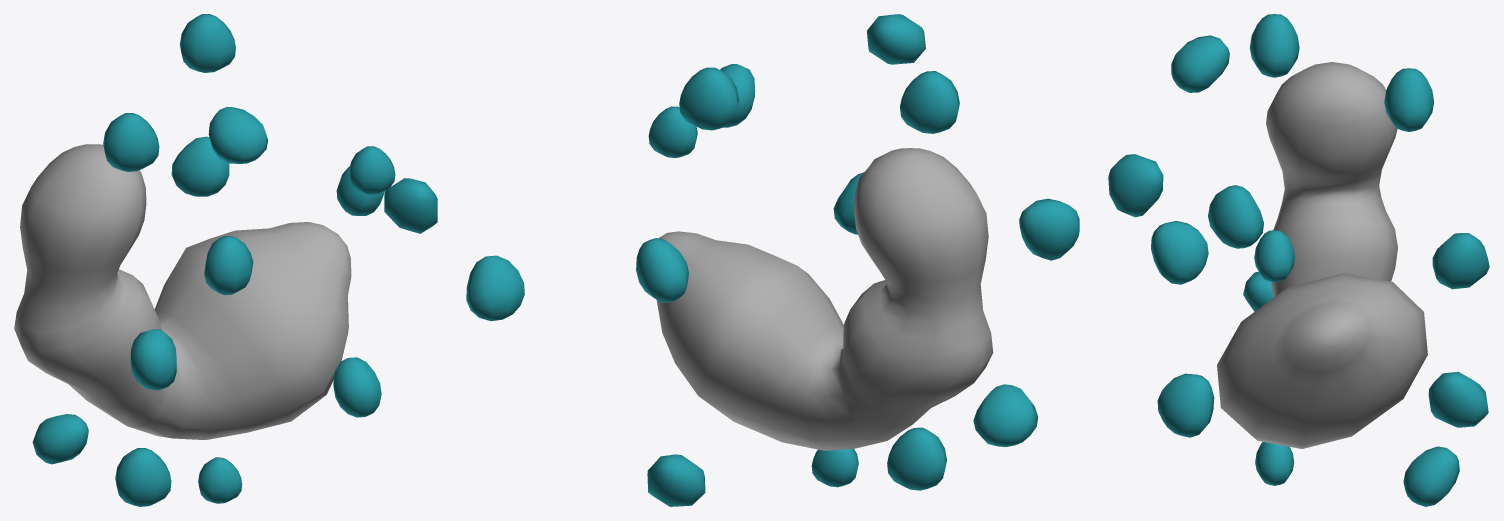
The model's file is bisophill.fbx.
3 views of the same model, side by side, from view 1: azimuth 30°, elevation 25°; view 2: azimuth 150°, elevation 25°; view 3: azimuth 270°, elevation 25° (orthographic). The views are drawn at different scales.
Visible parts, largest first — view 1: main_cell, pSphere19, pSphere7, pSphere13, pSphere12, bisophill, pSphere10, pSphere15, pSphere16, pSphere8, pSphere18, pSphere17 (+2 smaller); view 2: main_cell, pSphere11, pSphere18, pSphere12, pSphere7, pSphere13, pSphere10, bisophill, pSphere14, pSphere19, pSphere17, pSphere9 (+2 smaller); view 3: main_cell, pSphere15, pSphere16, pSphere10, pSphere8, pSphere11, pSphere19, pSphere14, pSphere13, pSphere12, bisophill, pSphere17 (+2 smaller).
Boxes of the visible parts, box(x1,y1,x2,y2) form: main_cell: box(14, 144, 351, 439); pSphere19: box(208, 106, 267, 163); pSphere7: box(115, 448, 171, 506); pSphere13: box(103, 113, 159, 171); pSphere12: box(179, 14, 235, 72); bisophill: box(171, 136, 229, 196); pSphere10: box(130, 329, 176, 390); pSphere15: box(384, 178, 437, 233); pSphere16: box(333, 357, 381, 417); pSphere8: box(204, 236, 253, 295); pSphere18: box(32, 414, 88, 464); pSphere17: box(349, 146, 395, 194); main_cell: box(656, 148, 993, 450); pSphere11: box(466, 255, 524, 321); pSphere18: box(973, 384, 1038, 447); pSphere12: box(679, 67, 738, 130); pSphere7: box(887, 427, 946, 490); pSphere13: box(900, 71, 959, 133); pSphere10: box(1019, 198, 1079, 260); bisophill: box(636, 238, 688, 302); pSphere14: box(647, 454, 705, 506); pSphere19: box(867, 14, 925, 64); pSphere17: box(648, 106, 697, 158); pSphere9: box(811, 448, 858, 487); main_cell: box(1217, 62, 1427, 448); pSphere15: box(1151, 221, 1208, 284); pSphere16: box(1157, 373, 1214, 437); pSphere10: box(1108, 154, 1163, 217); pSphere8: box(1208, 185, 1263, 248); pSphere11: box(1428, 371, 1488, 427); pSphere19: box(1171, 35, 1229, 92); pSphere14: box(1403, 446, 1459, 506); pSphere13: box(1250, 14, 1299, 77); pSphere12: box(1384, 68, 1434, 131); bisophill: box(1432, 233, 1489, 289); pSphere17: box(1254, 230, 1294, 282).
Size of the model in its own units: 872 by 815 by 642.
